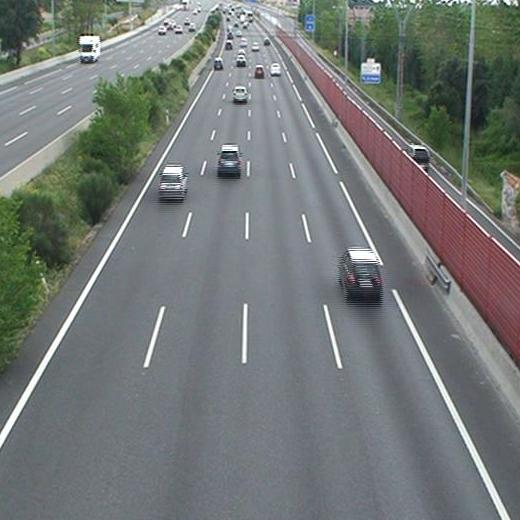car: (339, 252, 382, 298), (160, 167, 186, 198), (219, 145, 242, 174), (233, 88, 247, 100), (269, 64, 280, 74), (254, 66, 264, 77), (236, 56, 245, 66), (213, 58, 222, 68)
